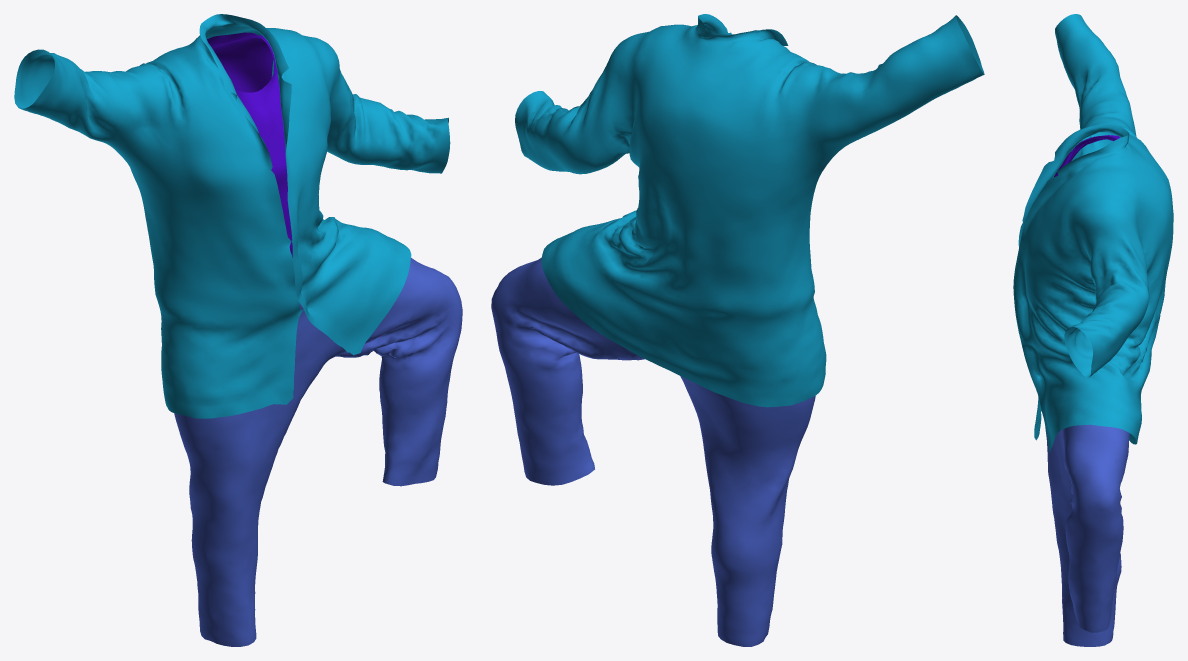
The model's file is aaron_022_combined.obj.
3 renders of one model, left to right at view 1: azimuth 30°, elevation 25°; view 2: azimuth 150°, elevation 25°; view 3: azimuth 270°, elevation 25°, orthographic. The views are drawn at different scales.
Parts seen in each view (by area): view 1: aaron_022_combined.002, aaron_022_combined, aaron_022_combined.001; view 2: aaron_022_combined.002, aaron_022_combined; view 3: aaron_022_combined.002, aaron_022_combined, aaron_022_combined.001.
Part boxes in pixels (x1,y1,x2,y2): aaron_022_combined.002: [14, 14, 450, 418]; aaron_022_combined: [174, 257, 462, 646]; aaron_022_combined.001: [207, 32, 292, 257]; aaron_022_combined.002: [515, 14, 984, 407]; aaron_022_combined: [491, 257, 815, 646]; aaron_022_combined.002: [1013, 14, 1173, 451]; aaron_022_combined: [1045, 424, 1129, 646]; aaron_022_combined.001: [1054, 135, 1120, 177].
Size of the model in its own units: 1.1 by 1.46 by 0.3904.
